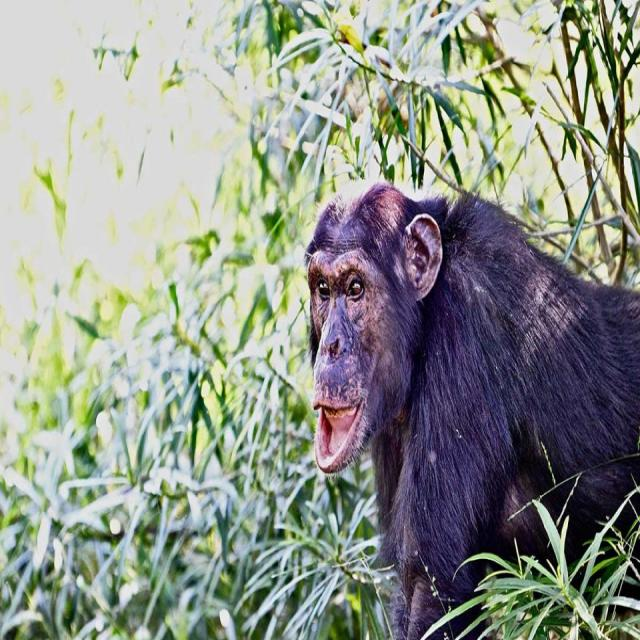chimpanzee: (307, 181, 640, 639)
